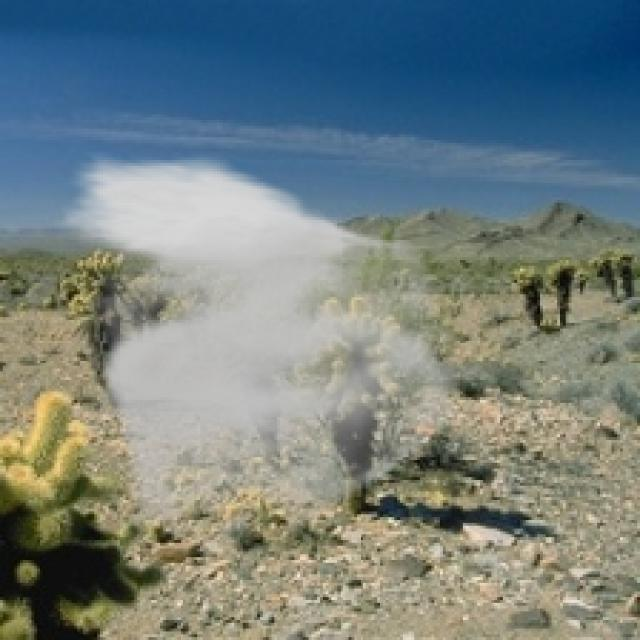Smoke: (54, 152, 469, 528)
